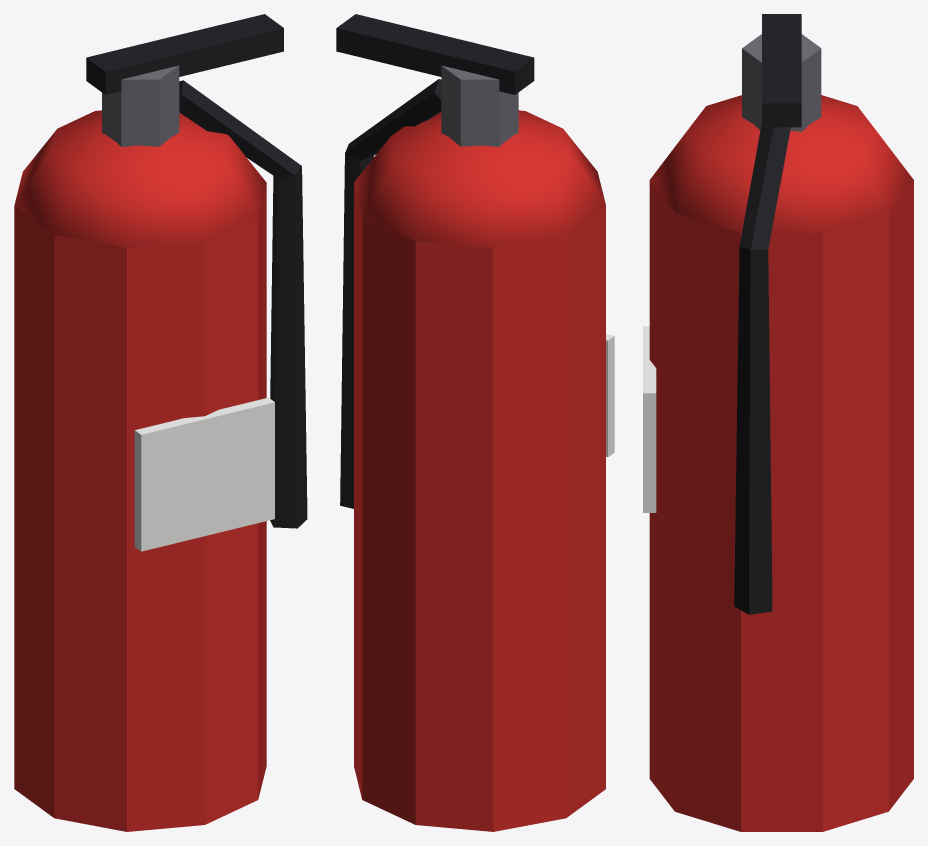
File: p_extinguisher.glb
3 renders of one model, left to right at view 1: azimuth 30°, elevation 25°; view 2: azimuth 150°, elevation 25°; view 3: azimuth 270°, elevation 25°, orthographic. The views are drawn at different scales.
Parts seen in each view (by area): view 1: extinguisher; view 2: extinguisher; view 3: extinguisher.
Part boxes in pixels (x1,y1,x2,y2): extinguisher: (14,14,307,831); extinguisher: (336,14,614,831); extinguisher: (643,14,913,831).
Size of the model in its own units: 0.2303 by 0.62 by 0.205.
